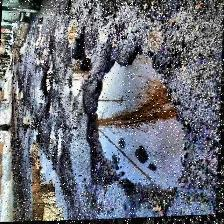pothole: (75, 44, 195, 220), (26, 140, 68, 222), (68, 58, 92, 100), (70, 31, 93, 72), (39, 68, 55, 94), (65, 20, 79, 46)
